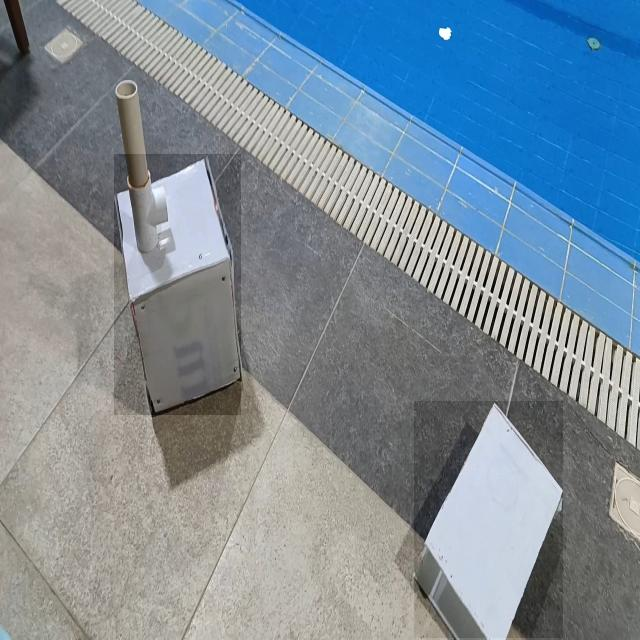Cube: (114, 154, 241, 415)
Cuboid: (414, 401, 563, 638)
